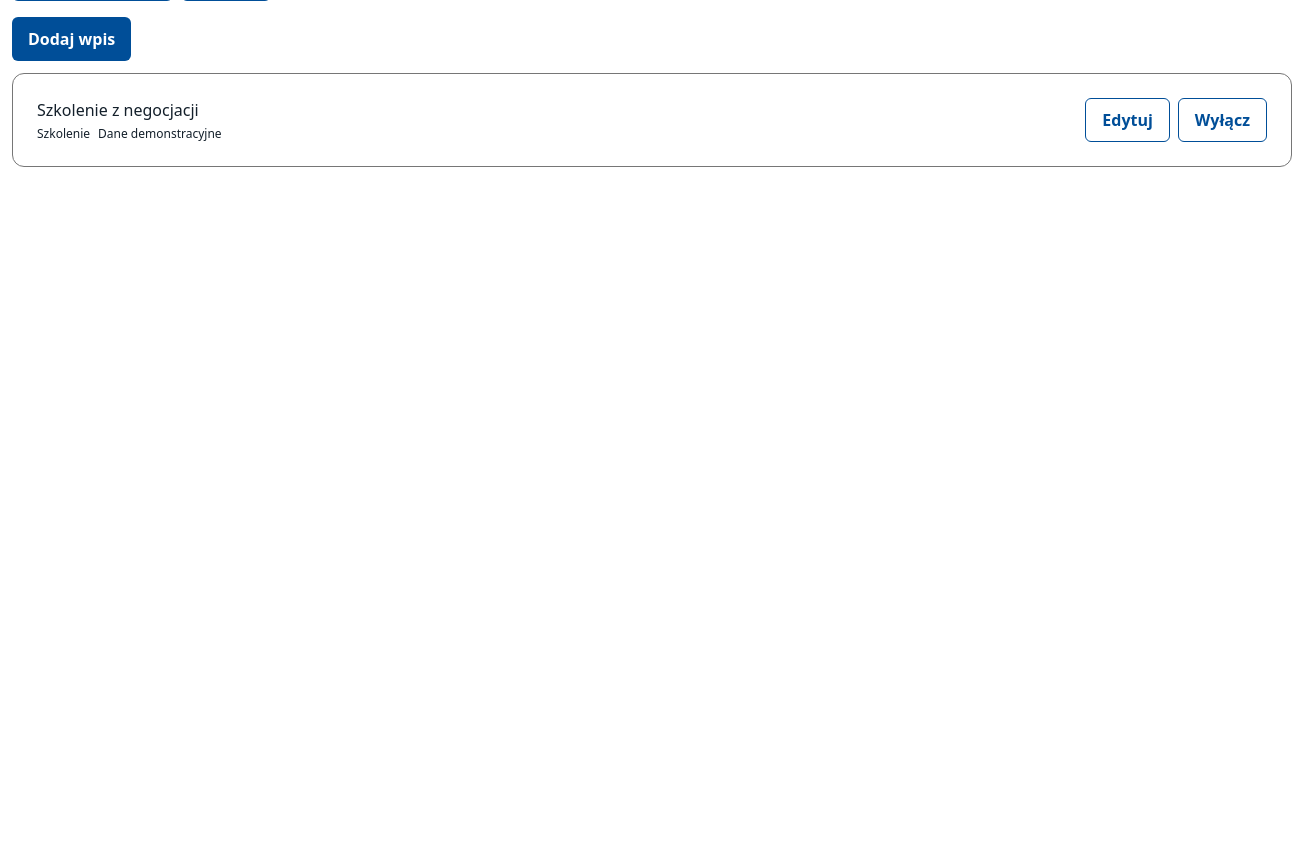
Test case: catalog tab › shows the backend's message when saving fails
Click the button with aria-label "Edytuj wpis Szkolenie z negocjacji".
click(1128, 120)  # box 1085,98 -> 1170,142
(page scrolled)
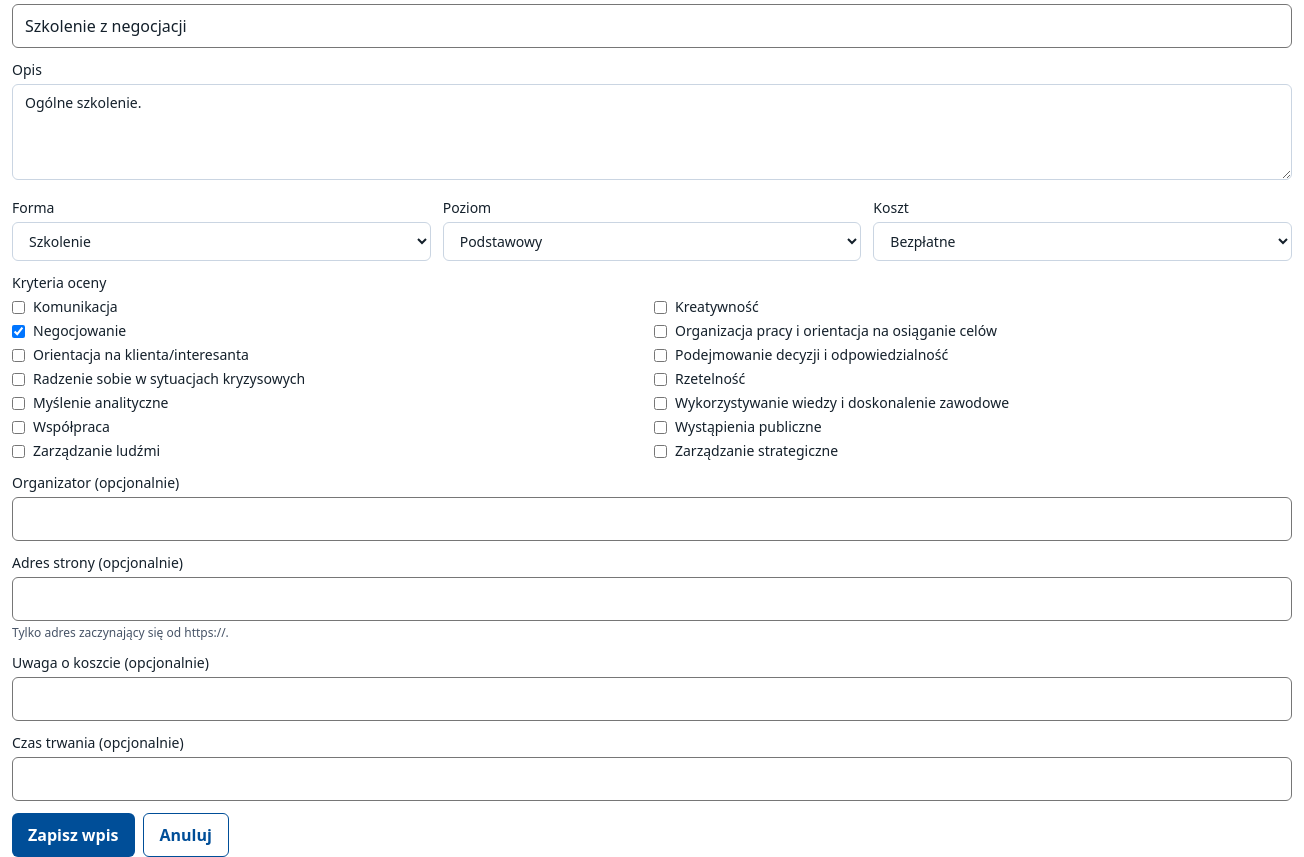
Click the button "Zapisz wpis".
click(73, 835)  # box 12,813 -> 134,856
(page scrolled)
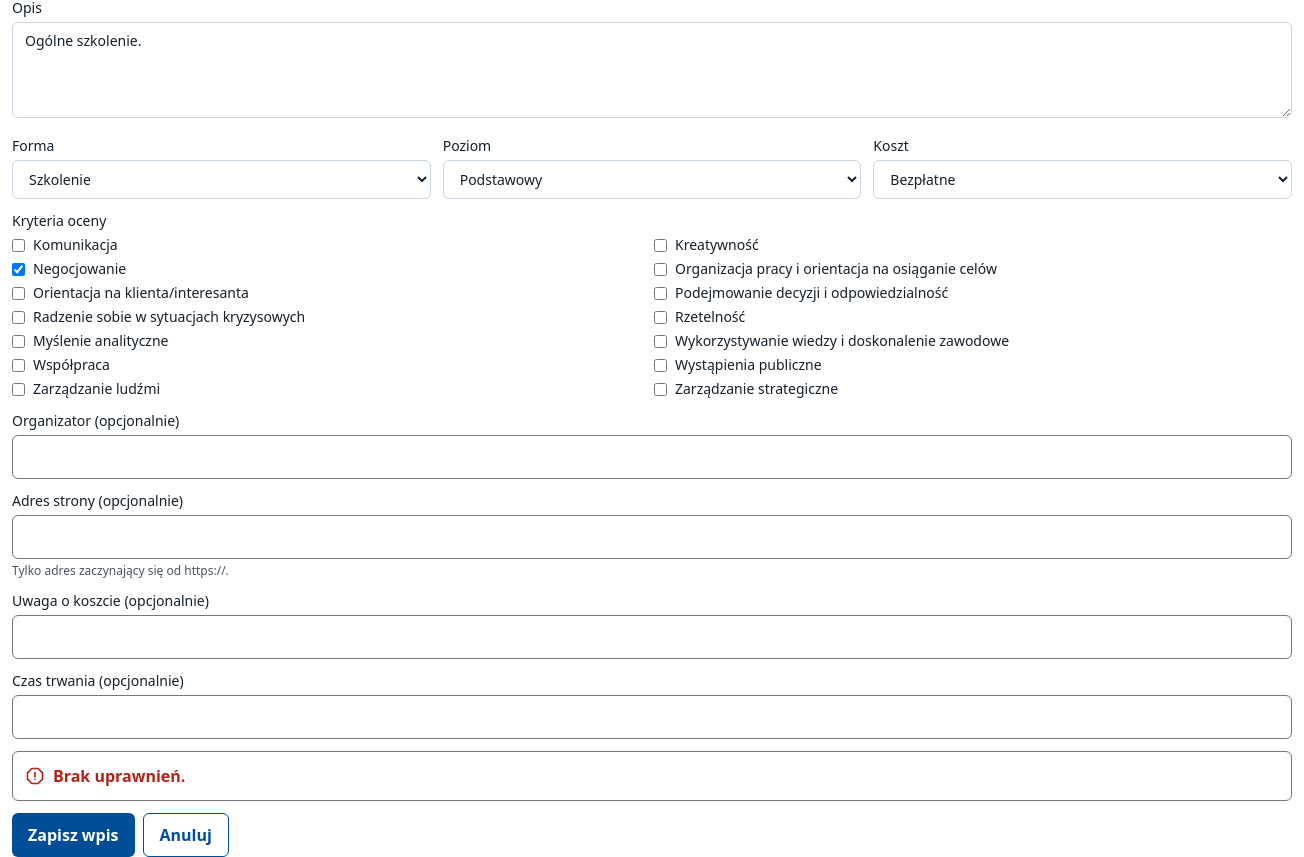
Expected: the message reads "Brak uprawnień.", 53,765 -> 185,787
